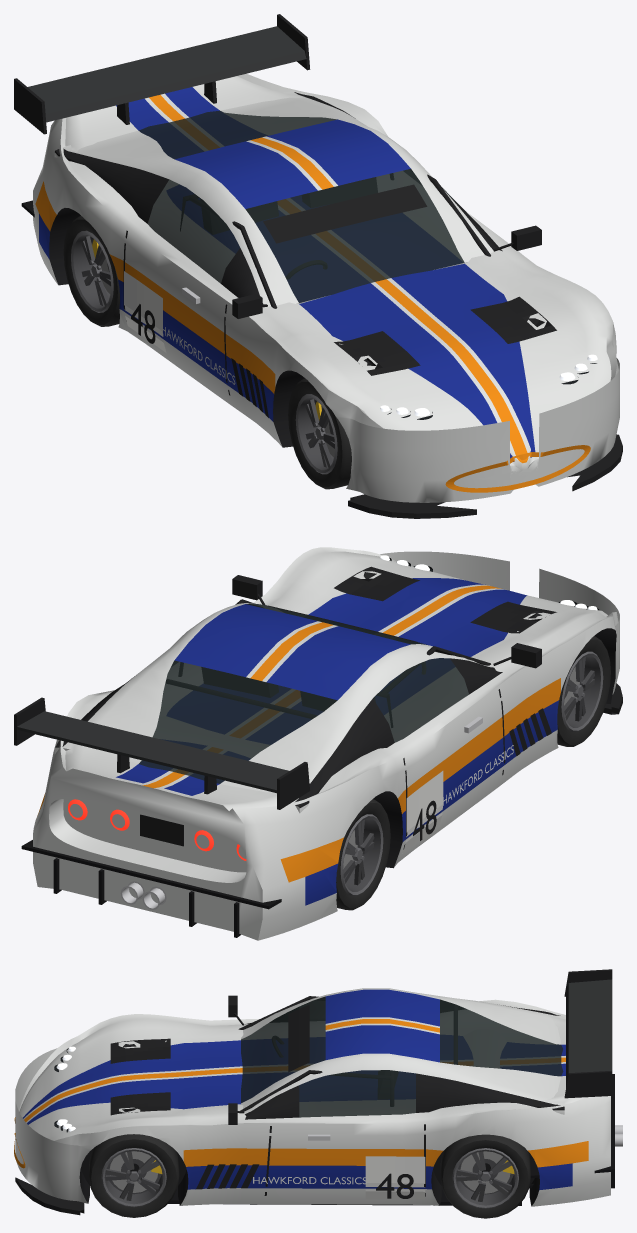
3 renders of one model, top to bottom at view 1: azimuth 30°, elevation 25°; view 2: azimuth 150°, elevation 25°; view 3: azimuth 270°, elevation 25°, orthographic. The views are drawn at different scales.
Parts seen in each view (by area): view 1: G55_Body, G55_Cabin, G55_Wing, G55_Livery, G55_Wheel_FR, G55_Wheel_RR, G55_Nose, G55_Sunstrip, G55_Interior, G55_Lights, G55_WingPlate; view 2: G55_Body, G55_Cabin, G55_Wing, G55_Livery, G55_Lights, G55_Wheel_RR, G55_Wheel_FR, G55_Interior, G55_Diffuser, G55_WingPlate, G55_WingPlate.001; view 3: G55_Body, G55_Cabin, G55_Wheel_RL, G55_Wheel_FL, G55_Livery, G55_Wing, G55_Interior, G55_Sunstrip, G55_Lights, G55_WingPlate.001, G55_Nose, G55_Diffuser (+4 smaller).
Boxes of the visible parts, box(x1,y1,x2,y2) form: G55_Body: box(33, 73, 619, 502); G55_Cabin: box(54, 91, 502, 307); G55_Wing: box(28, 26, 306, 122); G55_Livery: box(123, 230, 556, 417); G55_Wheel_FR: box(288, 378, 351, 489); G55_Wheel_RR: box(63, 216, 119, 326); G55_Nose: box(348, 434, 622, 518); G55_Sunstrip: box(263, 184, 427, 243); G55_Interior: box(180, 169, 490, 308); G55_Lights: box(182, 225, 597, 419); G55_WingPlate: box(14, 78, 46, 134); G55_Body: box(33, 547, 619, 940); G55_Cabin: box(54, 603, 502, 813); G55_Wing: box(17, 711, 289, 793); G55_Livery: box(334, 566, 556, 852); G55_Lights: box(68, 555, 599, 909); G55_Wheel_RR: box(336, 799, 390, 910); G55_Wheel_FR: box(557, 636, 610, 746); G55_Interior: box(166, 599, 490, 727); G55_Diffuser: box(21, 840, 281, 937); G55_WingPlate: box(277, 762, 310, 809); G55_WingPlate.001: box(14, 697, 45, 745); G55_Body: box(15, 999, 610, 1206); G55_Cabin: box(241, 988, 564, 1119); G55_Wheel_RL: box(440, 1134, 530, 1218); G55_Wheel_FL: box(89, 1134, 179, 1217); G55_Livery: box(110, 1038, 425, 1199); G55_Wing: box(566, 979, 612, 1087); G55_Interior: box(238, 996, 457, 1111); G55_Sunstrip: box(288, 1004, 309, 1072); G55_Lights: box(54, 995, 622, 1146); G55_WingPlate.001: box(564, 1070, 612, 1098); G55_Nose: box(14, 1117, 84, 1215); G55_Diffuser: box(529, 1074, 614, 1188).
Size of the model in its own units: 2.09 by 1.22 by 4.59.
